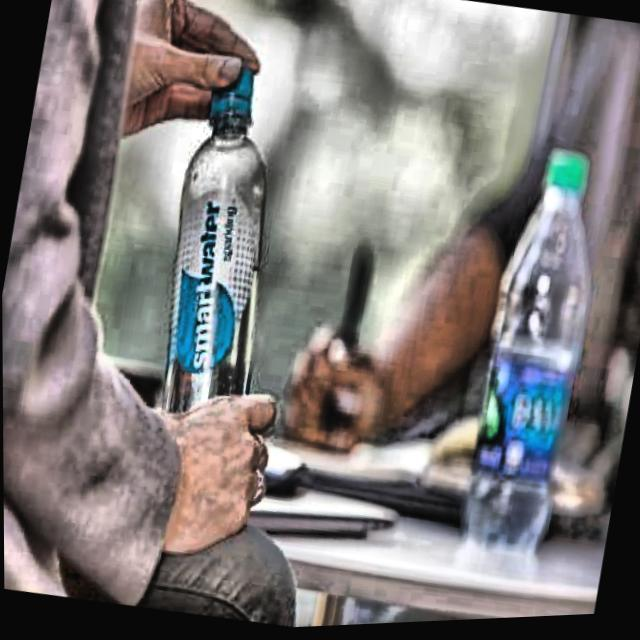Bottles: (97, 40, 346, 478), (440, 134, 631, 595)
